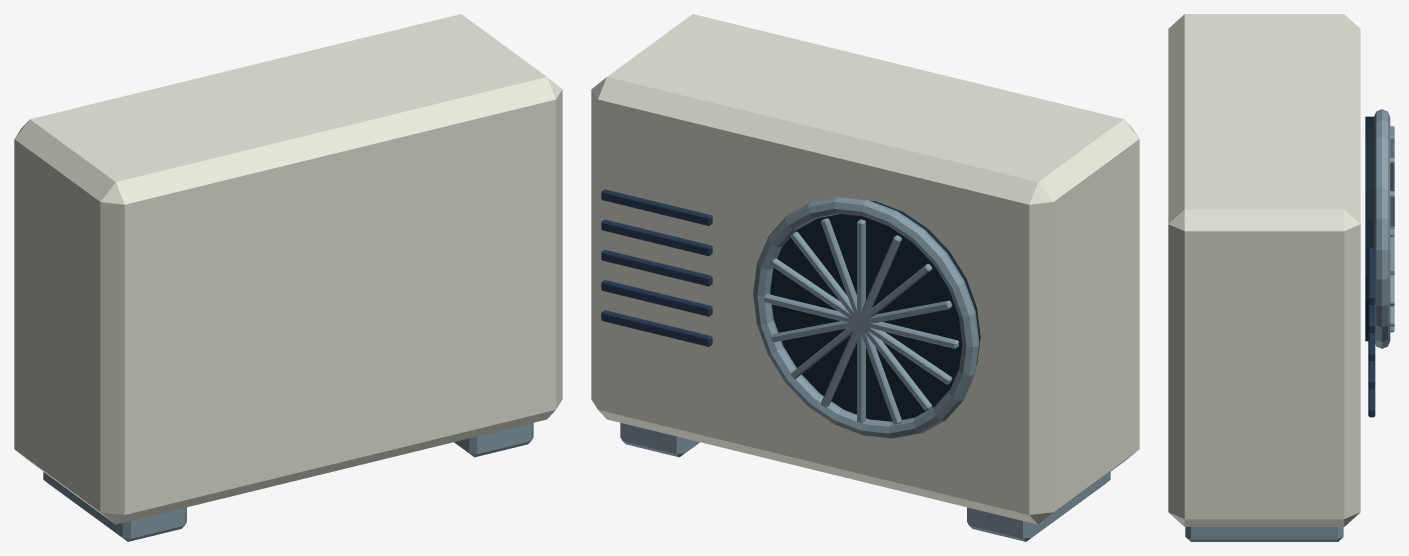
Rendered from compact_cooling_unit.glb.
The picture shows the model from 3 angles, left to right: view 1: azimuth 30°, elevation 25°; view 2: azimuth 150°, elevation 25°; view 3: azimuth 270°, elevation 25°; orthographic projection. The views are drawn at different scales.
Parts seen in each view (by area): view 1: cooling_body, cooling_support (×2); view 2: cooling_body, fan_recess, fan_spoke (×8), fan_grille, cooling_slot (×5), cooling_support (×2); view 3: cooling_body, fan_grille, cooling_support, fan_recess, cooling_slot.
Part boxes in pixels (<box>): cooling_body: <box>14,14,562,524</box>; cooling_support (×2): <box>43,423,533,541</box>; cooling_body: <box>591,14,1139,524</box>; fan_recess: <box>770,200,980,421</box>; fan_spoke (×8): <box>764,218,958,424</box>; fan_grille: <box>753,197,979,438</box>; cooling_slot (×5): <box>601,189,712,346</box>; cooling_support (×2): <box>620,423,1110,541</box>; cooling_body: <box>1168,14,1360,526</box>; fan_grille: <box>1374,109,1390,348</box>; cooling_support: <box>1185,527,1343,541</box>; fan_recess: <box>1365,116,1373,341</box>; cooling_slot: <box>1368,248,1375,304</box>.
Bounding box in the file's own units: 0.72 × 0.545 × 0.3295.
